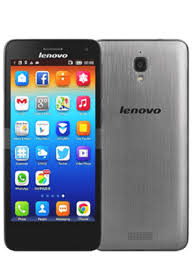lenovo: (3, 38, 99, 251), (93, 38, 189, 251)
